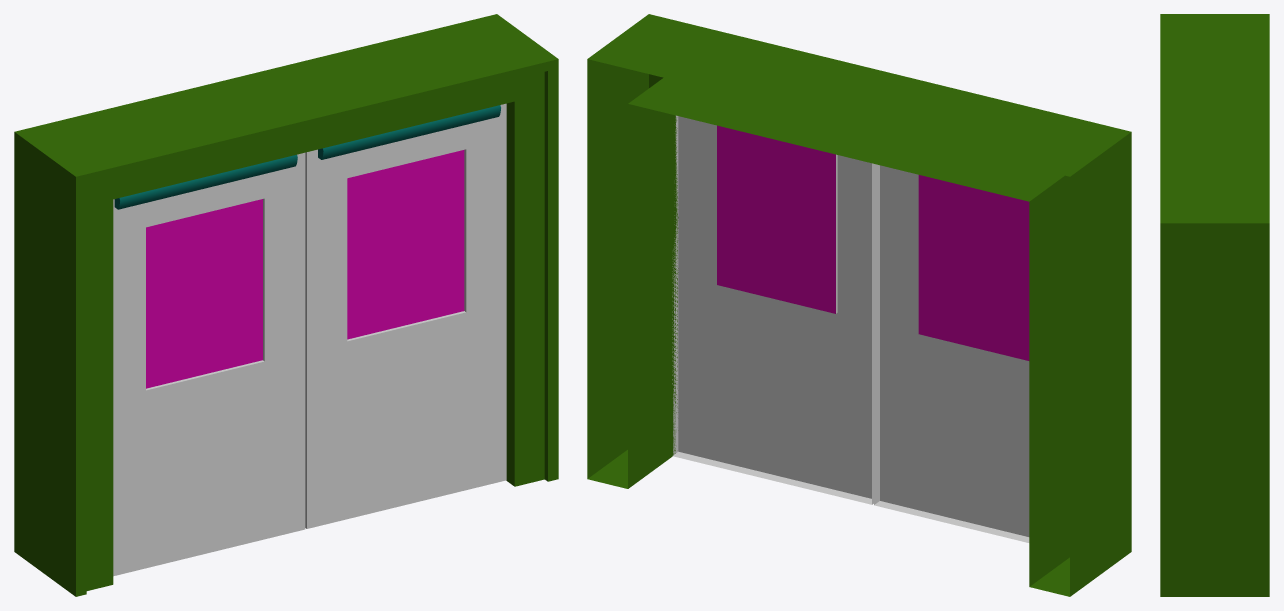
The model's file is Door.FBX.
3 views of the same model, side by side, from view 1: azimuth 30°, elevation 25°; view 2: azimuth 150°, elevation 25°; view 3: azimuth 270°, elevation 25° (orthographic). The views are drawn at different scales.
Visible parts, largest first — view 1: Box002; view 2: Box002; view 3: Box002.
Part boxes in pixels (<box>): Box002: <box>14,14,558,596</box>; Box002: <box>587,14,1131,596</box>; Box002: <box>1160,14,1269,596</box>.
Bounding box in the file's own units: 82.18 × 68.35 × 18.15.
